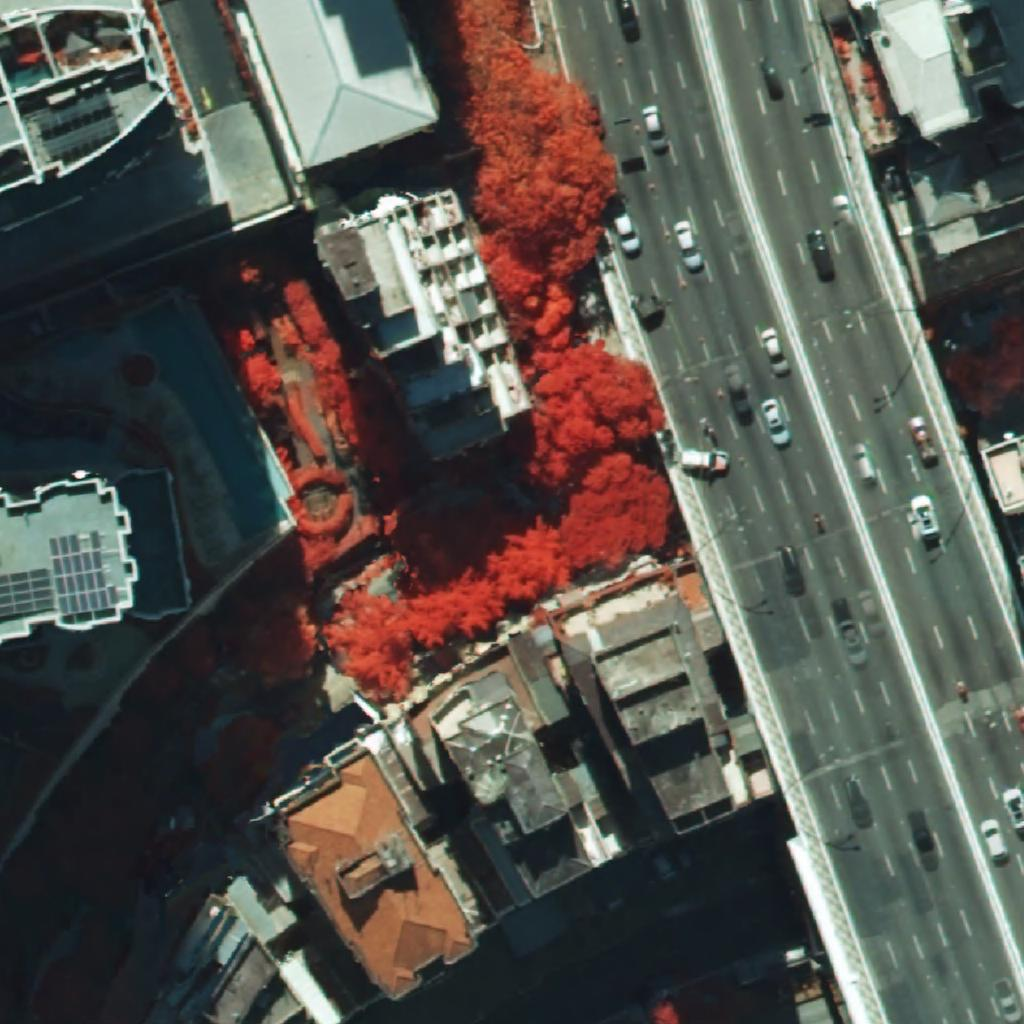pool: (131, 300, 288, 541)
